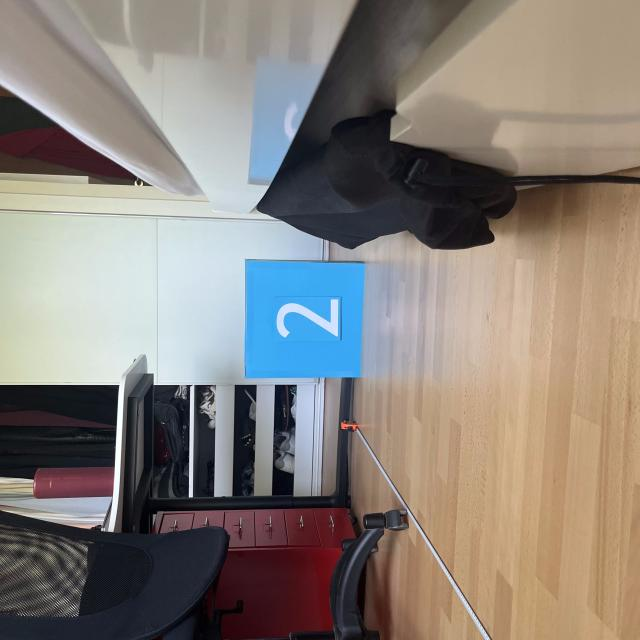box: (239, 254, 368, 380)
